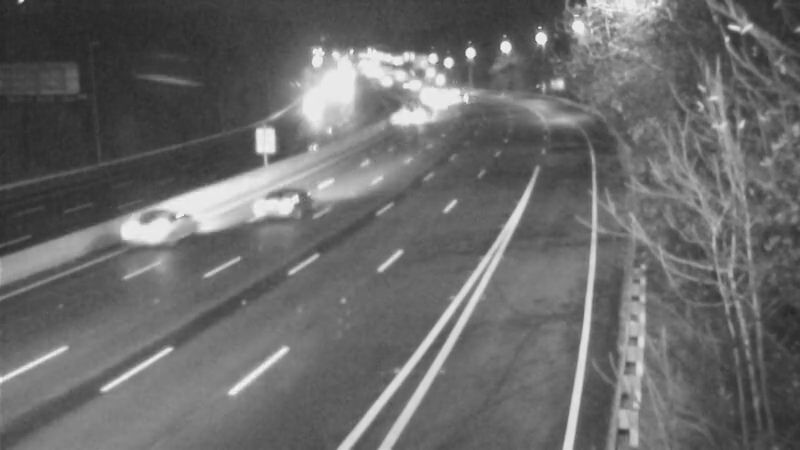vehicle: (239, 166, 319, 246), (97, 198, 177, 278), (388, 89, 438, 139), (273, 86, 323, 136)
